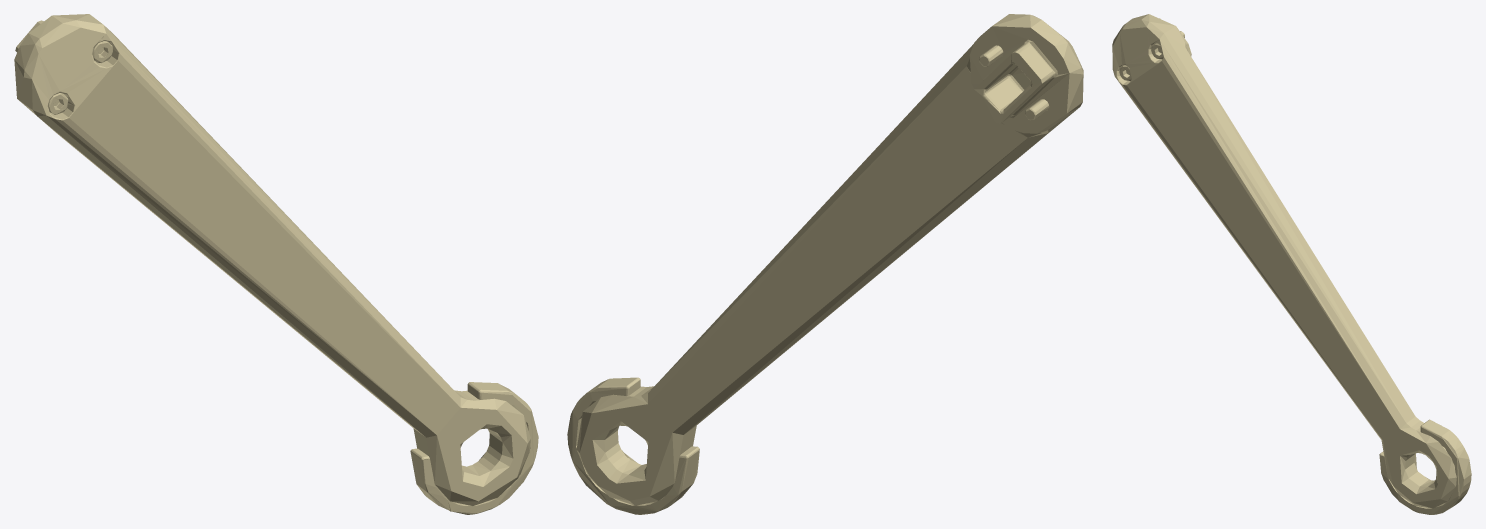
The model's file is col_LowerLegC.dae.
3 renders of one model, left to right at view 1: azimuth 30°, elevation 25°; view 2: azimuth 150°, elevation 25°; view 3: azimuth 330°, elevation 25°, orthographic. The views are drawn at different scales.
Parts seen in each view (by area): view 1: collision_Lower_Leg_C; view 2: collision_Lower_Leg_C; view 3: collision_Lower_Leg_C.
Boxes of the visible parts, left/top/right/bottom form: collision_Lower_Leg_C: left=14, top=14, right=538, bottom=514; collision_Lower_Leg_C: left=567, top=14, right=1083, bottom=514; collision_Lower_Leg_C: left=1112, top=14, right=1471, bottom=514.
Bounding box in the file's own units: 0.1353 × 0.02 × 0.1491.
